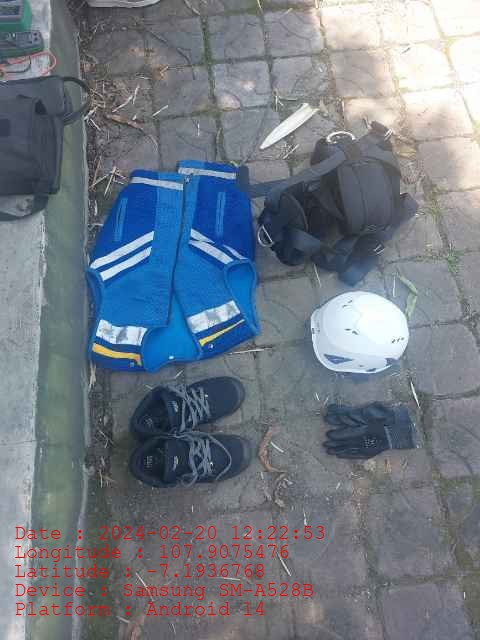HELM: (310, 290, 408, 373)
ROMPI: (87, 162, 256, 373)
SARUNG_TANGAN: (322, 421, 416, 459)
SEPATU: (130, 377, 251, 490)
